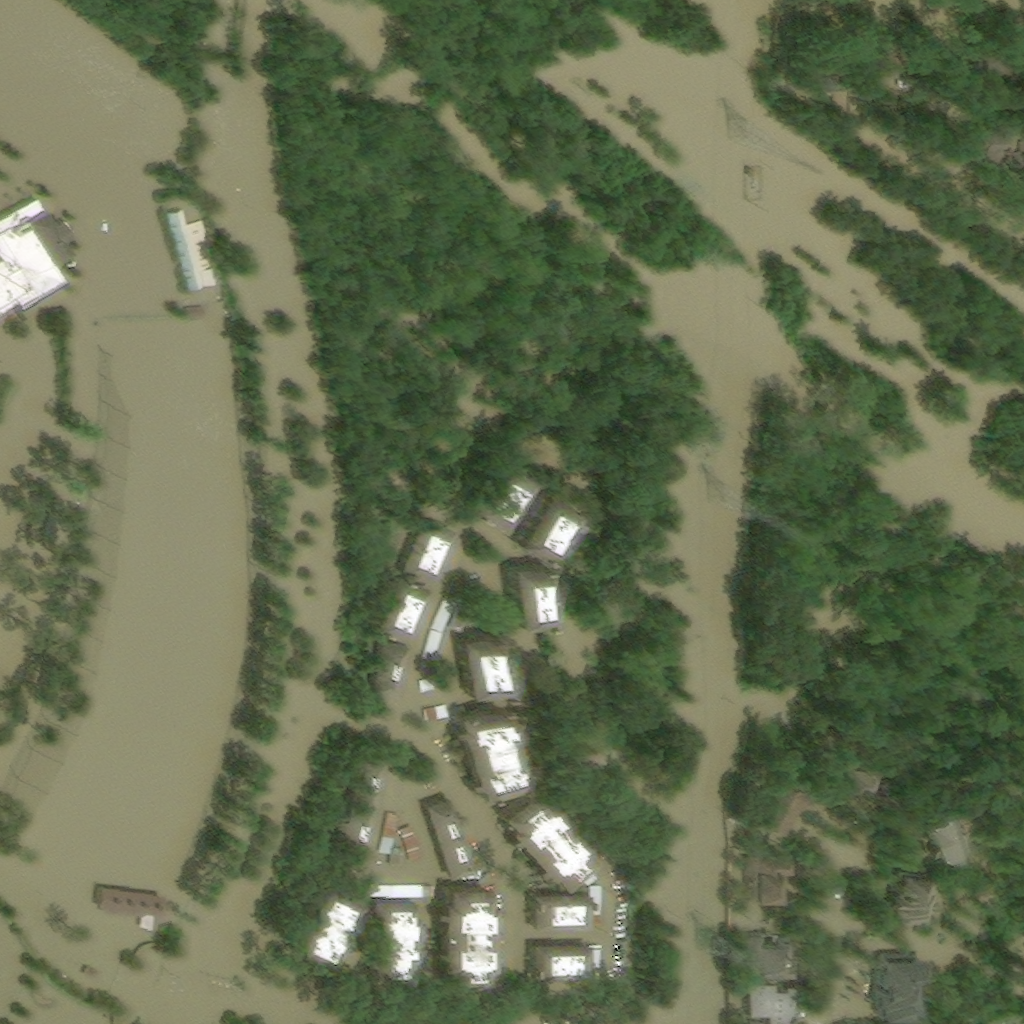destroyed: (794, 27, 850, 97), (863, 41, 913, 91), (962, 120, 997, 151), (182, 305, 203, 318)
major_damage: (498, 779, 598, 887), (0, 192, 73, 326), (450, 694, 526, 800), (429, 880, 489, 984), (371, 886, 435, 982), (332, 747, 384, 859), (419, 569, 471, 674), (167, 208, 226, 295), (465, 452, 527, 526), (296, 887, 360, 957), (423, 793, 475, 877), (506, 478, 570, 546), (754, 770, 814, 838), (398, 512, 453, 583), (451, 626, 503, 695), (864, 936, 914, 1004), (497, 549, 544, 620), (530, 885, 607, 928), (96, 883, 164, 931), (873, 854, 928, 913), (375, 574, 429, 634), (745, 854, 802, 905), (747, 926, 802, 978), (907, 785, 951, 848), (529, 937, 605, 973), (368, 637, 408, 696), (747, 981, 796, 1023), (379, 811, 405, 867), (837, 746, 870, 790), (400, 824, 424, 862), (425, 705, 450, 722), (583, 870, 599, 890)
